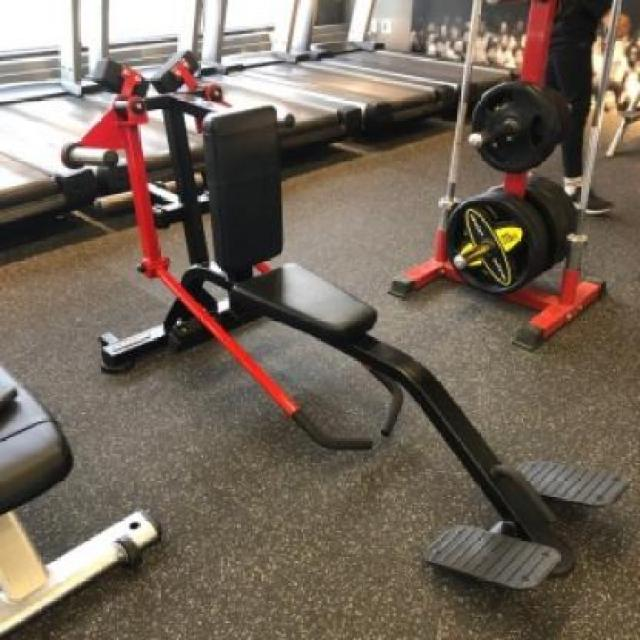lateral raises machine: (66, 51, 640, 515)
